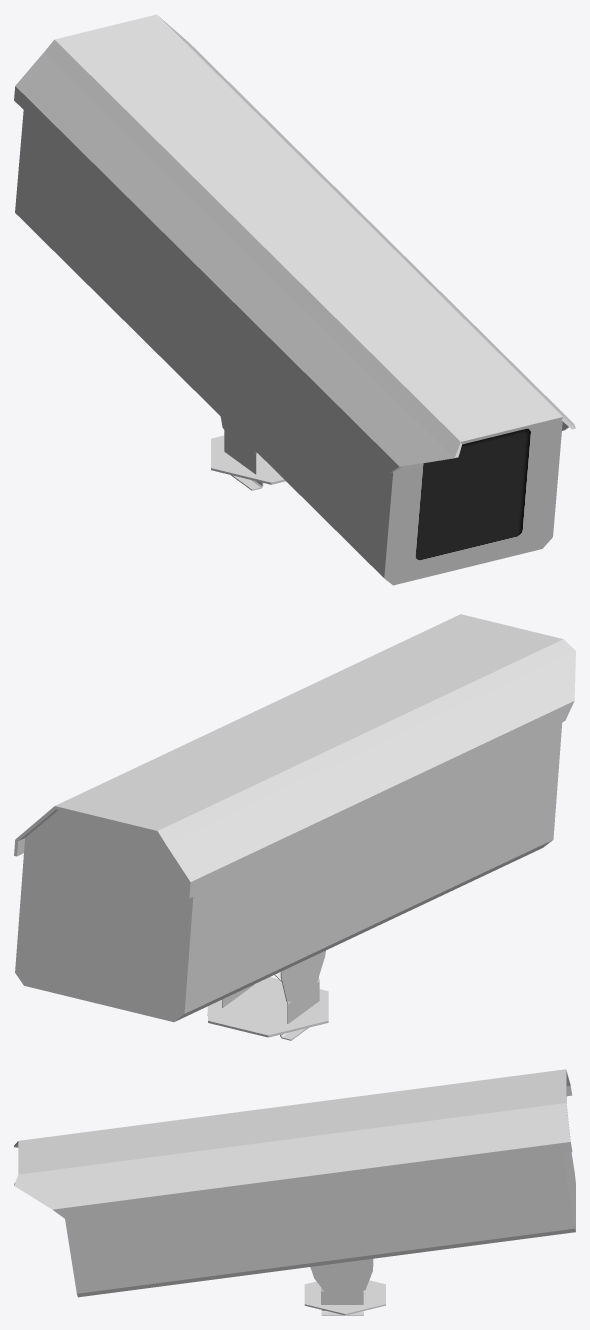
Rendered from shexiangtou.gltf.
3 views of the same model, one above another, from view 1: azimuth 30°, elevation 25°; view 2: azimuth 150°, elevation 25°; view 3: azimuth 270°, elevation 25° (orthographic). The views are drawn at different scales.
Parts seen in each view (by area): view 1: Object308834062; view 2: Object308834062; view 3: Object308834062.
Boxes of the visible parts, x1,y1,x2,y2 form: Object308834062: [14, 14, 575, 585]; Object308834062: [14, 614, 575, 1040]; Object308834062: [14, 1069, 575, 1315].
Bounding box in the file's own units: 0.2326 × 0.4091 × 0.955.
Materials: 1 (1 with a texture image).
